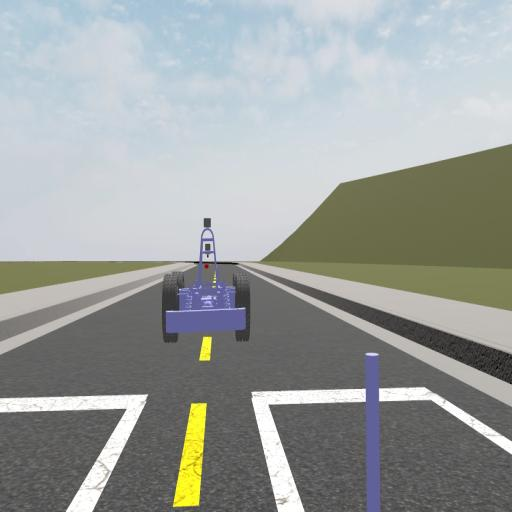ERP-42: (160, 216, 251, 342)
